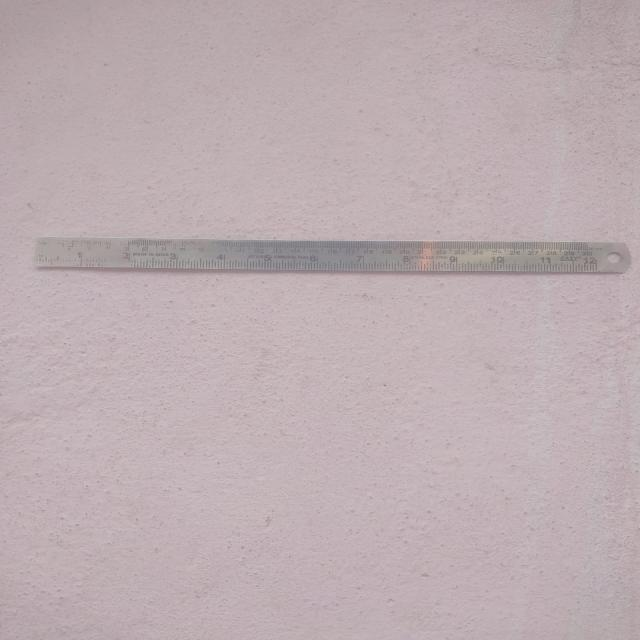scale: (33, 236, 635, 274)
